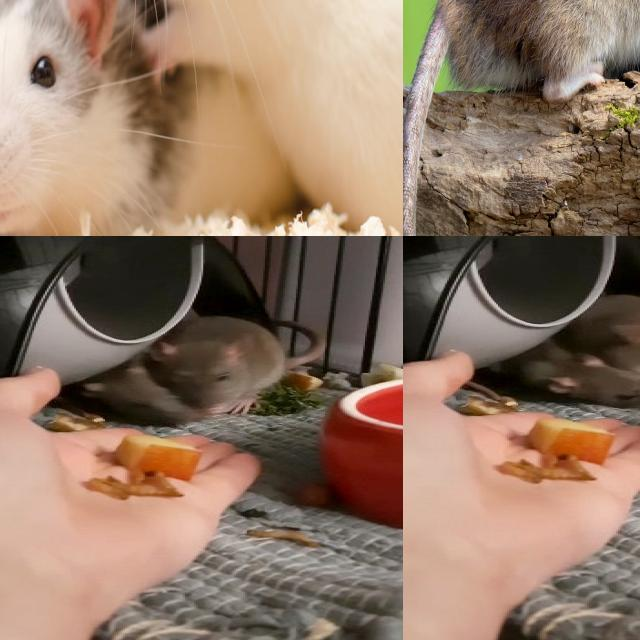rat: (0, 0, 232, 236), (34, 0, 403, 101), (442, 0, 640, 99), (146, 316, 291, 415), (492, 342, 640, 411), (568, 295, 640, 373)
